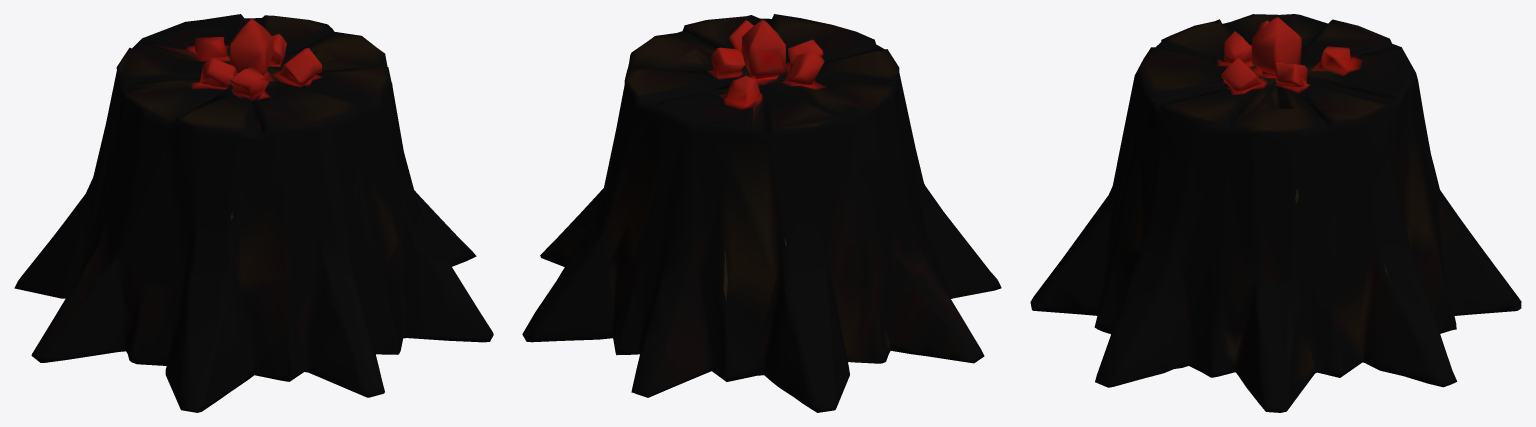
Rendered from gen3d-smoldering-stump-lod0.glb.
3 views of the same model, side by side, from view 1: azimuth 30°, elevation 25°; view 2: azimuth 150°, elevation 25°; view 3: azimuth 270°, elevation 25° (orthographic).
Parts seen in each view (by area): view 1: part_0; view 2: part_0; view 3: part_0.
Boxes of the visible parts, bbox=[...] form: part_0: bbox=[14, 14, 493, 412]; part_0: bbox=[522, 14, 1001, 412]; part_0: bbox=[1030, 14, 1521, 412].
Size of the model in its own units: 1.55 by 0.9984 by 1.51.
